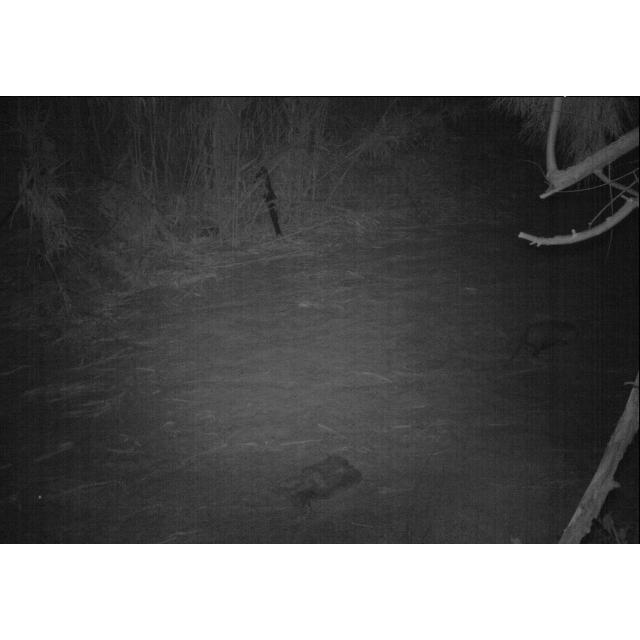animals: (504, 316, 580, 362)
